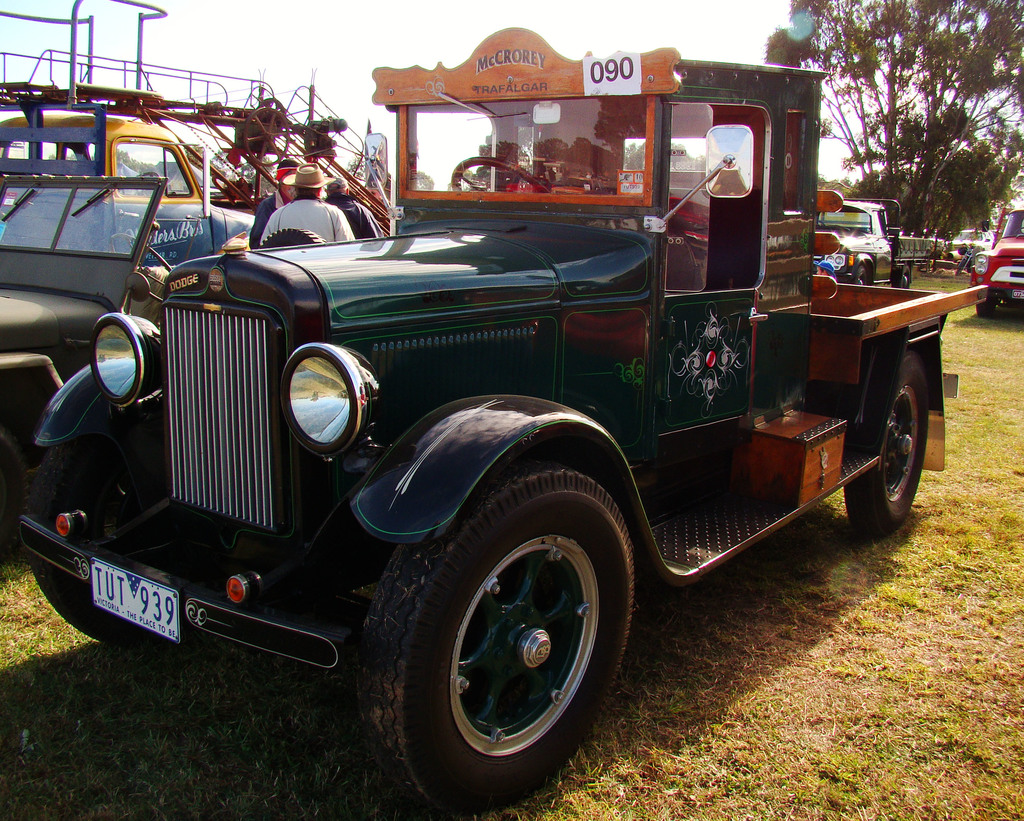Car: (0, 24, 1023, 814)
